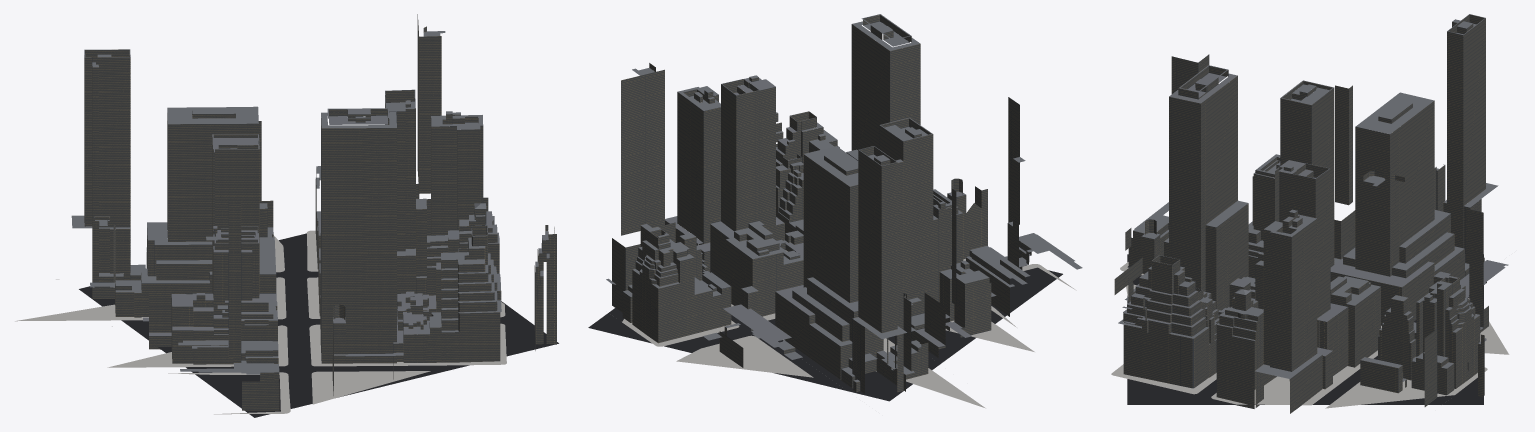
3 views of the same model, side by side, from view 1: azimuth 30°, elevation 25°; view 2: azimuth 150°, elevation 25°; view 3: azimuth 270°, elevation 25° (orthographic). The views are drawn at different scales.
Visible parts, largest first — view 1: t6_4, detail; view 2: t6_4, detail; view 3: t6_4, detail.
Boxes of the visible parts, <box> form: t6_4: <box>71,14,558,417</box>; detail: <box>15,230,506,414</box>; t6_4: <box>588,14,1082,401</box>; detail: <box>622,250,1076,408</box>; t6_4: <box>1114,14,1508,413</box>; detail: <box>1111,262,1509,408</box>.
Bounding box in the file's own units: 338 × 194 × 287.
Materials: 4 (2 with a texture image).
